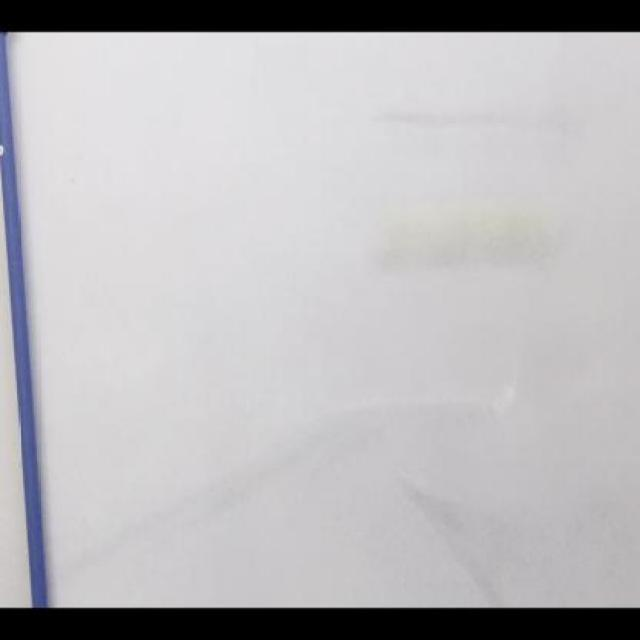baseball: (366, 193, 559, 259)
